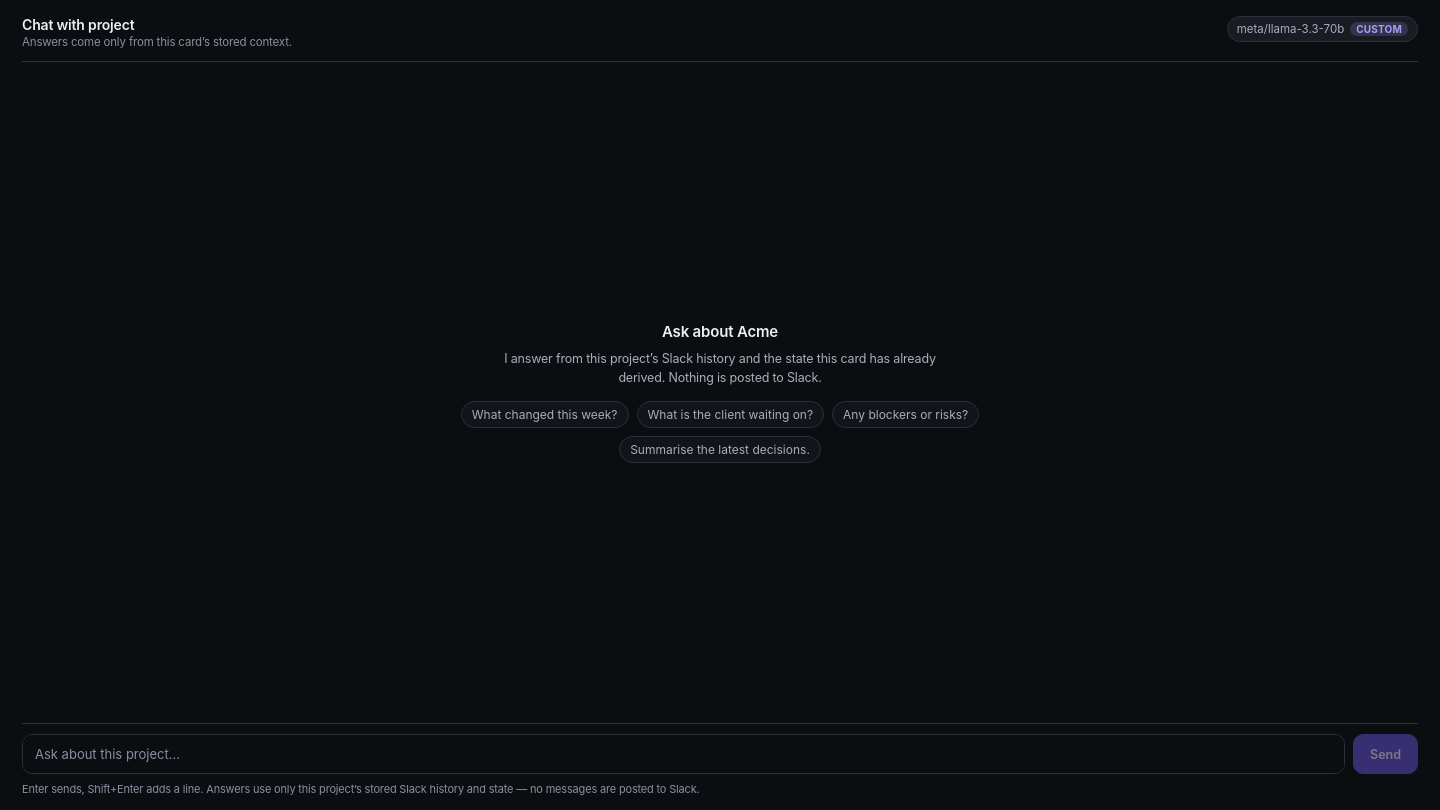
Test case: AgentChatPanel › stops the active run with its run id
expect the text "Ask about Acme" is shown: met, box [662, 322, 778, 341]
Type "What changed?" into the text box labelled "Ask about this project" at {"x": 684, "y": 754}, box [22, 734, 1345, 774]
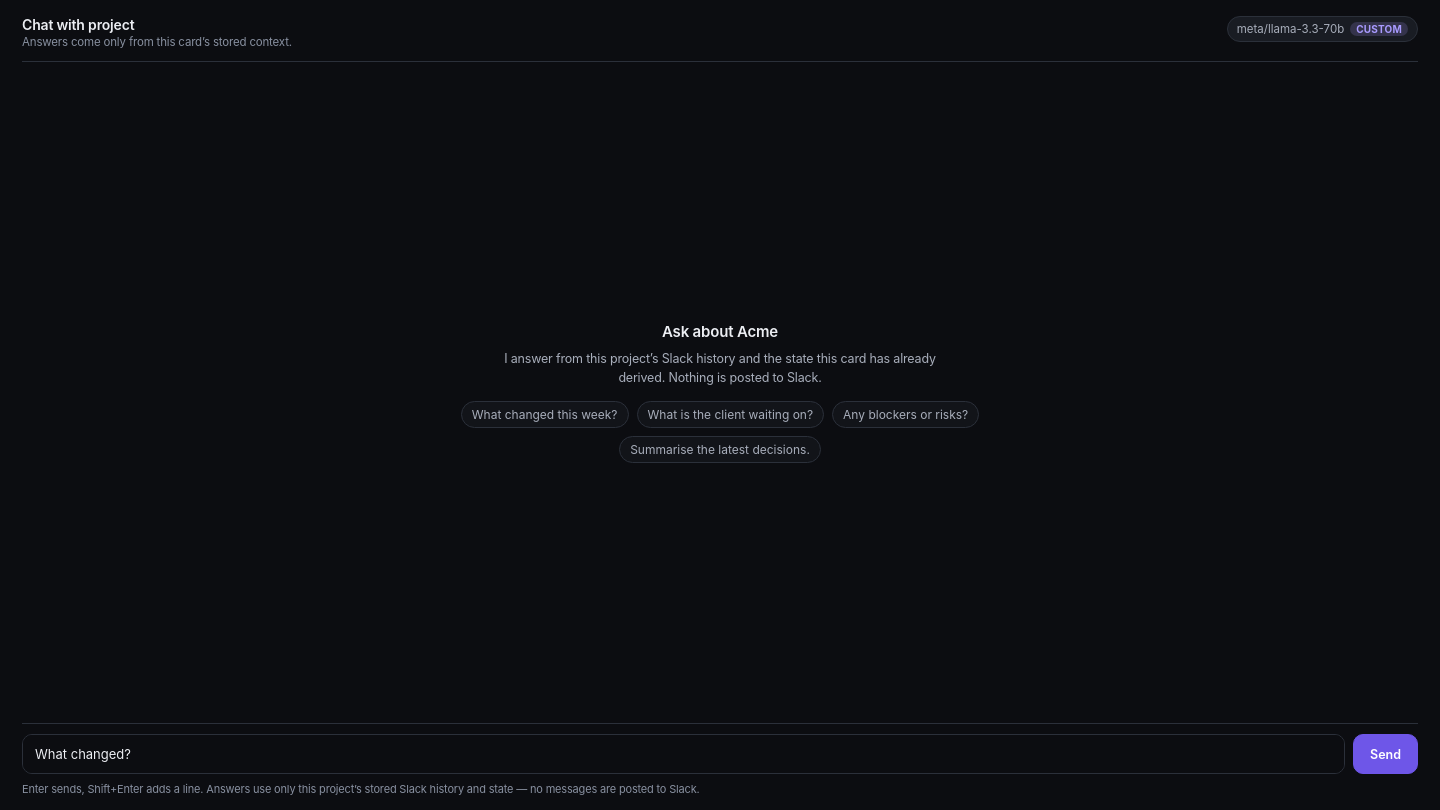
Click the button "Send" at {"x": 1386, "y": 754}, box [1353, 734, 1418, 774]
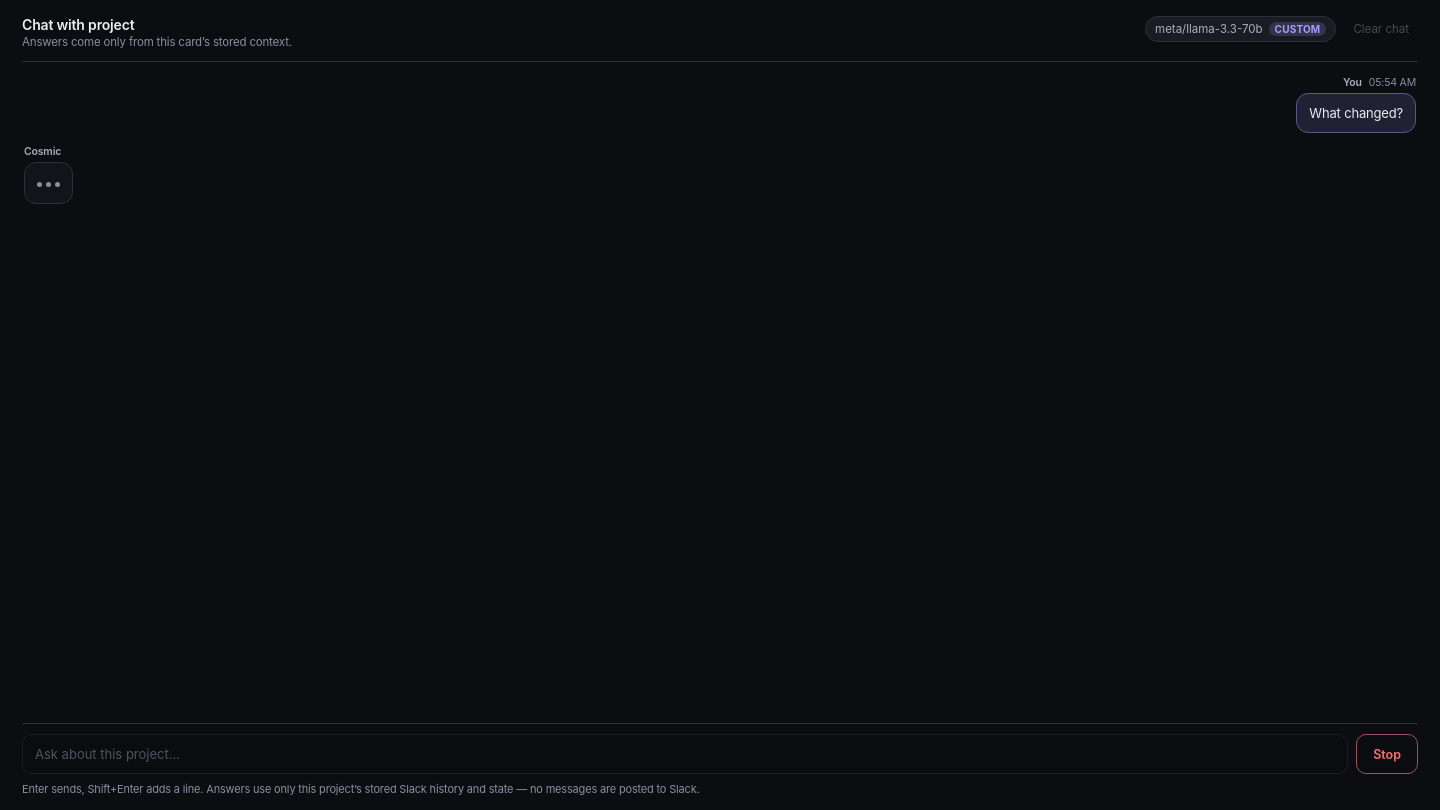
Click the button "Stop" at {"x": 1387, "y": 754}, box [1356, 734, 1418, 774]
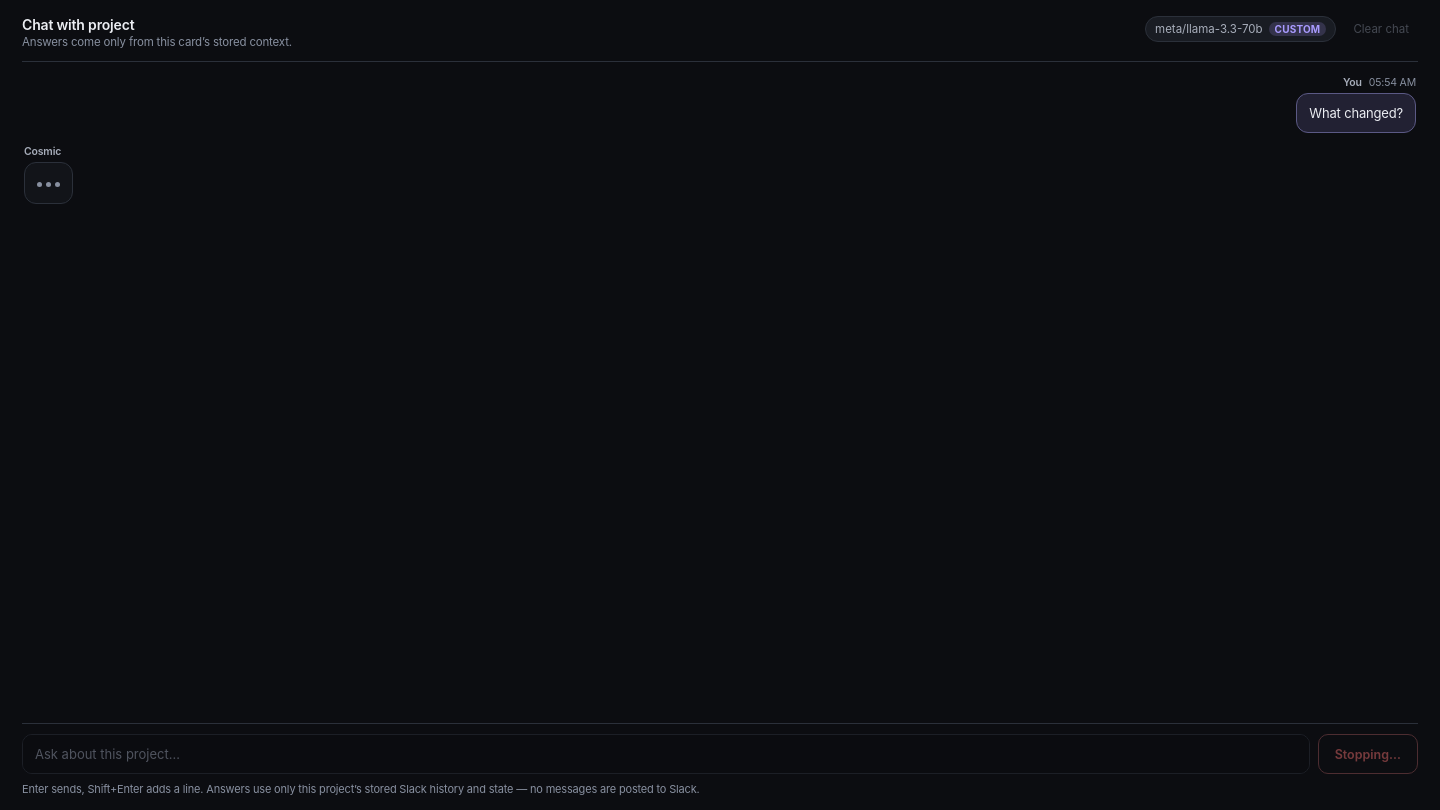
expect the button "Stopping…" is shown: met, box [1318, 734, 1418, 774]
